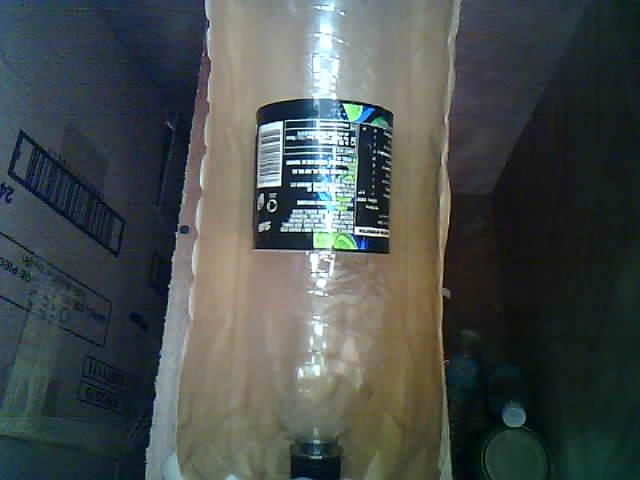large_bottle: (229, 0, 406, 480)
